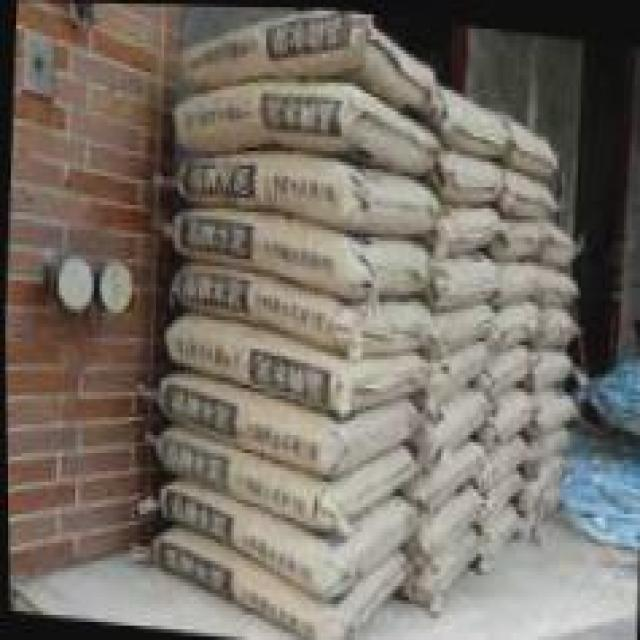gunny_bag: (140, 478, 421, 604), (177, 7, 442, 125), (137, 527, 413, 640), (148, 366, 423, 478), (147, 422, 421, 534), (158, 309, 432, 416), (161, 202, 443, 301), (169, 76, 444, 177), (168, 143, 451, 239), (166, 256, 436, 351), (392, 521, 483, 618), (412, 380, 494, 467), (400, 482, 481, 569), (408, 432, 489, 517), (441, 87, 518, 161), (428, 143, 509, 204), (420, 336, 489, 407), (419, 297, 500, 357), (498, 210, 584, 265), (429, 248, 503, 310), (472, 427, 532, 491), (432, 201, 504, 254), (488, 296, 547, 356), (487, 382, 542, 444), (504, 124, 562, 181), (473, 467, 526, 528), (500, 166, 560, 219), (517, 477, 565, 542), (489, 341, 542, 396), (514, 450, 565, 506), (493, 261, 555, 305), (480, 499, 520, 563), (530, 385, 581, 432), (534, 301, 578, 349), (524, 422, 570, 467), (531, 345, 575, 387), (537, 263, 581, 303)
